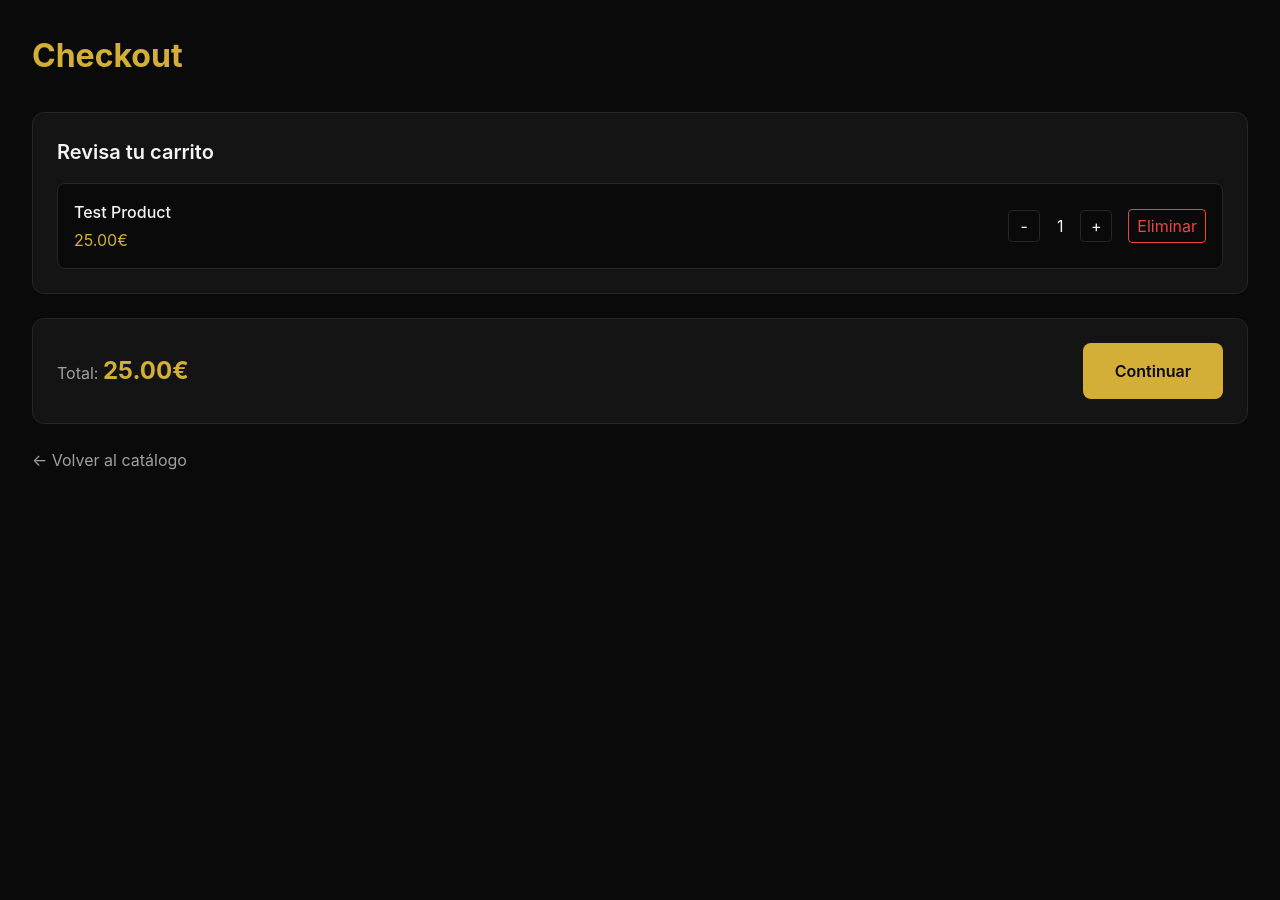
Checkout Page › Contact form anti-fraud (5.6 RED + 5.7 GREEN) › should reject fast submission (timing check)
The width and height of the screenshot is (1280, 900).
Expected: the heading "Revisa tu carrito" is shown, [57,140,214,164]
Click continue to go to contact form
Click the button "Continuar": coordinates (1153, 371) [1083,343,1223,399]
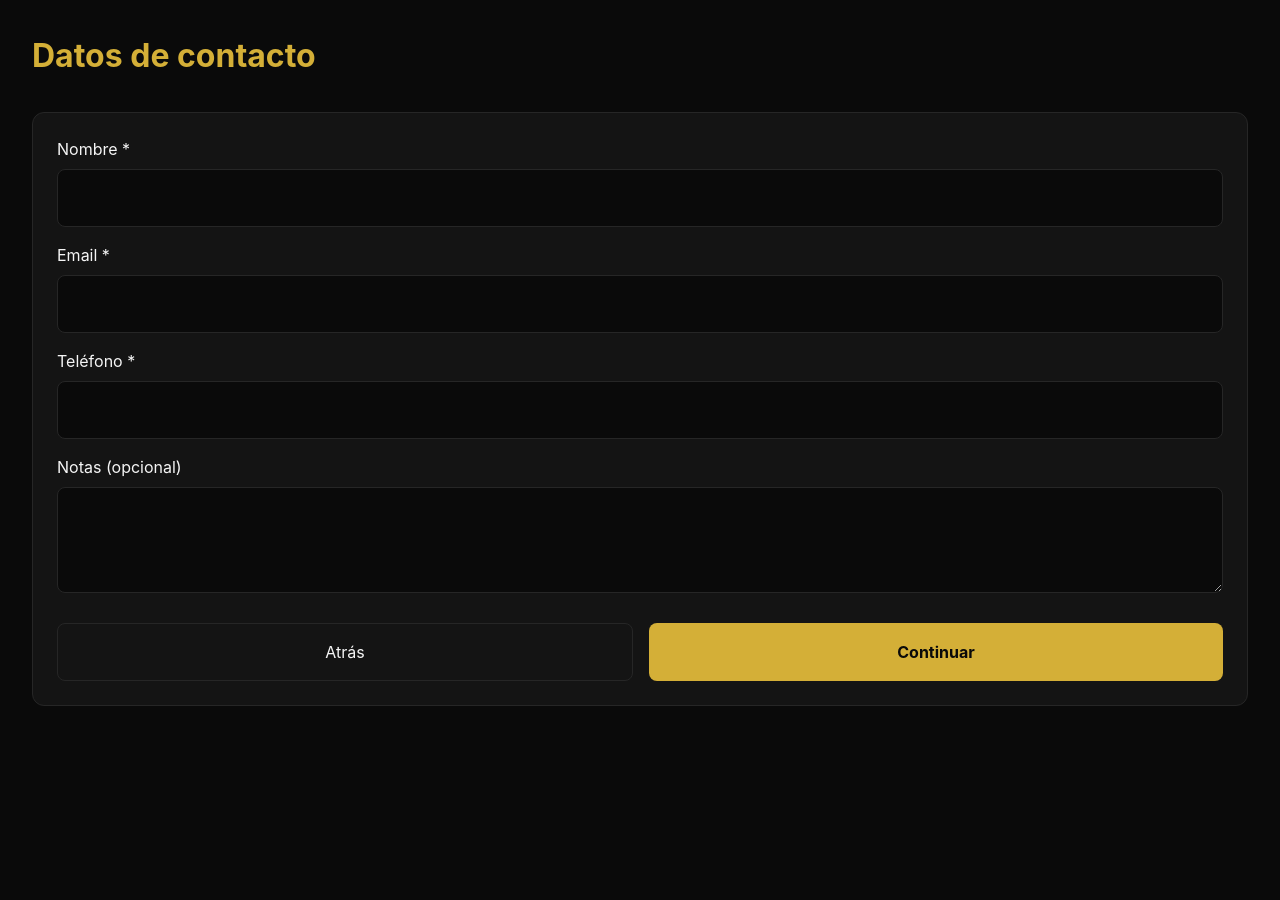
Result: the heading "Datos de contacto" is shown at [32,36,316,75]
In the field labelled "Nombre *": coordinates (640, 198) [57,169,1223,227], type "Juan Pérez"
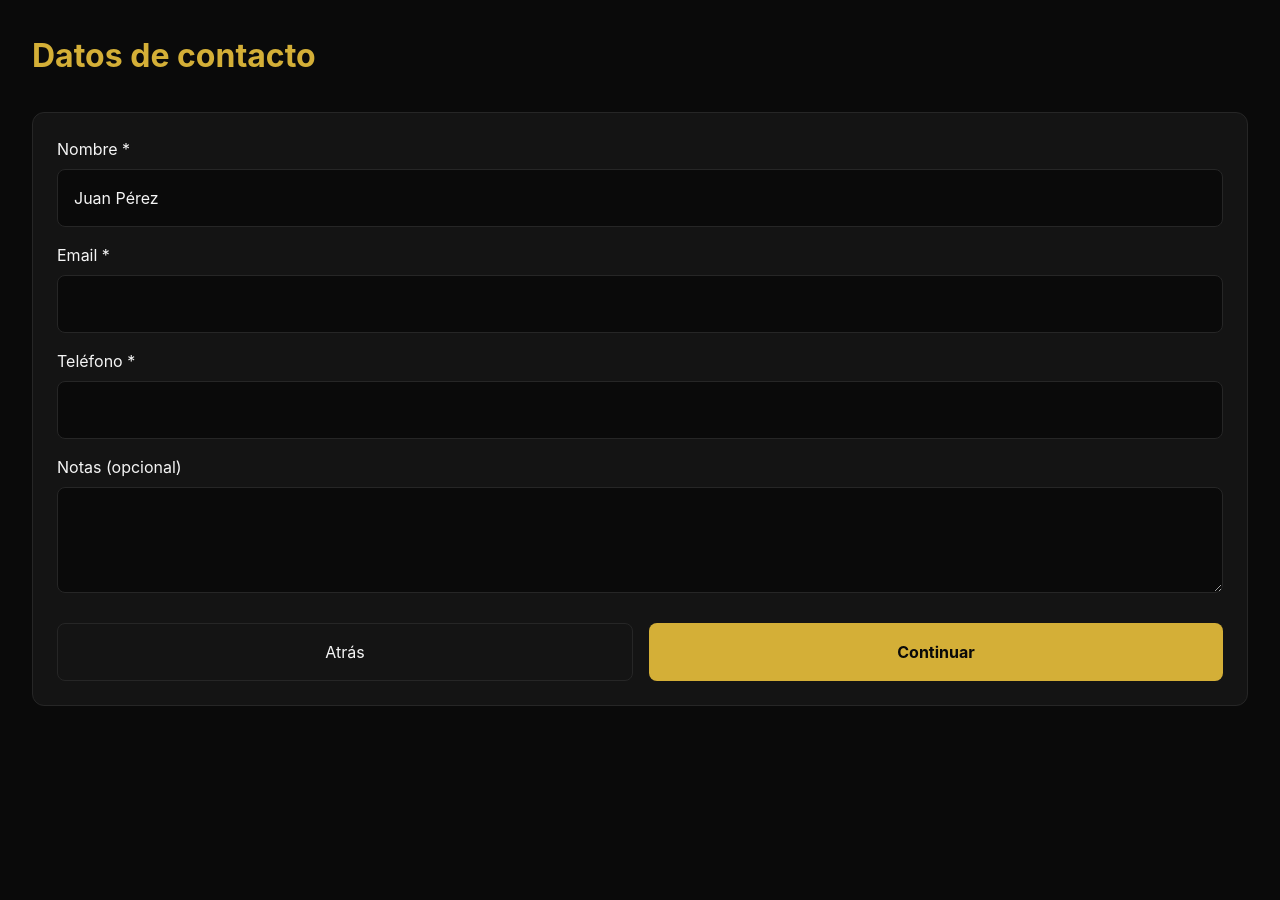
In the field labelled "Email *": coordinates (640, 304) [57,275,1223,333], type "juan@test.com"
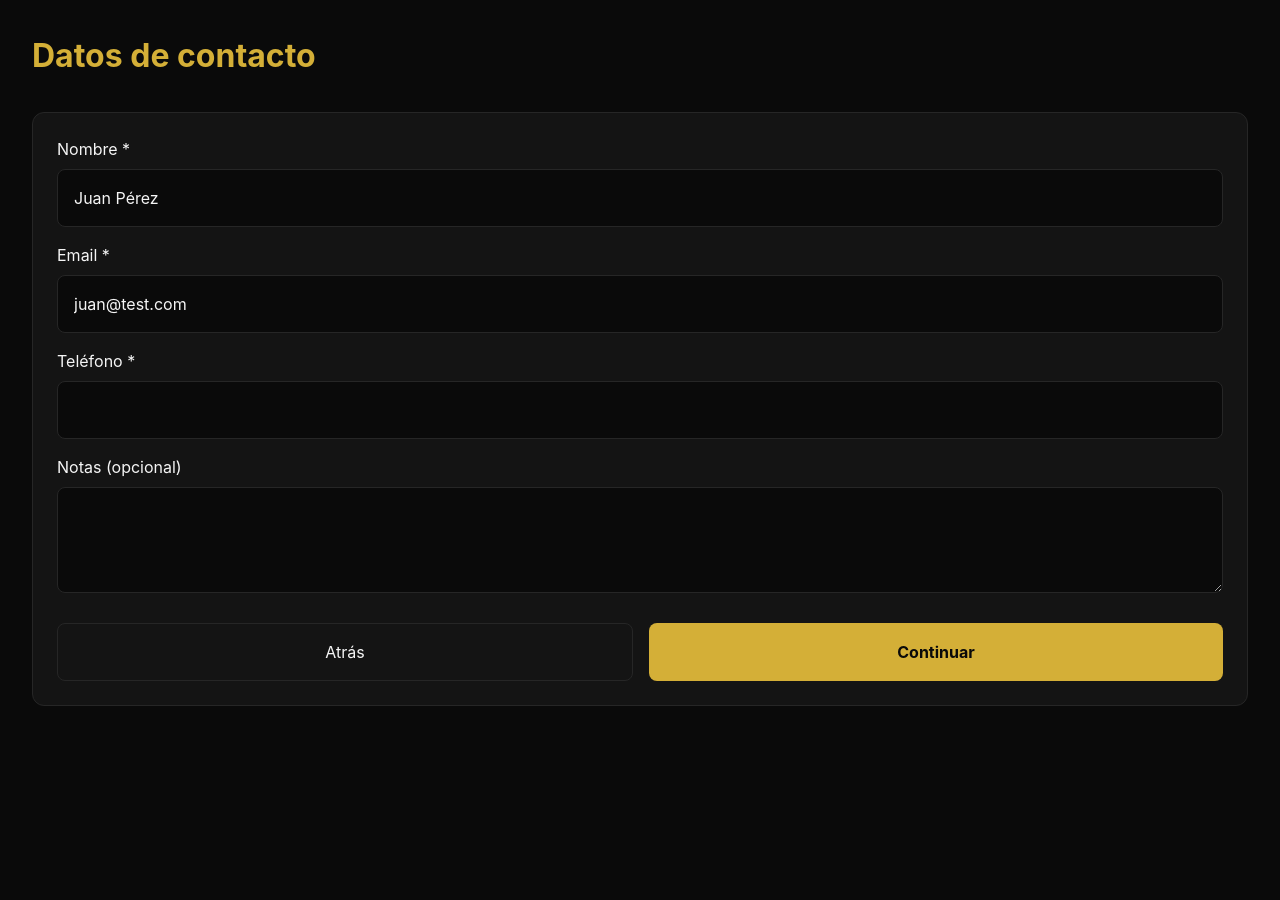
In the field labelled "Teléfono *": coordinates (640, 410) [57,381,1223,439], type "123456789"
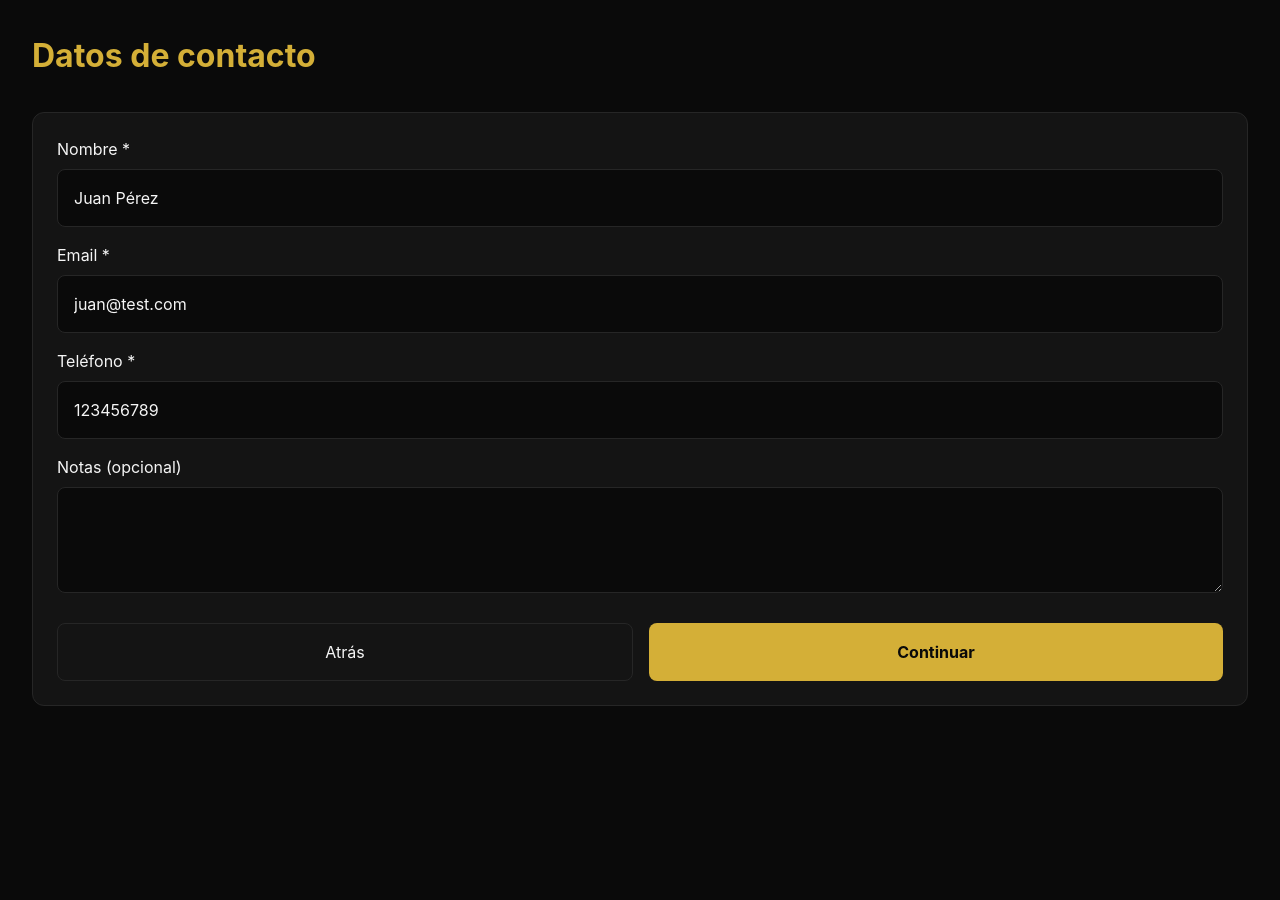
Submit immediately (less than 3 seconds)
Click the button "Continuar": coordinates (936, 652) [649,623,1223,681]
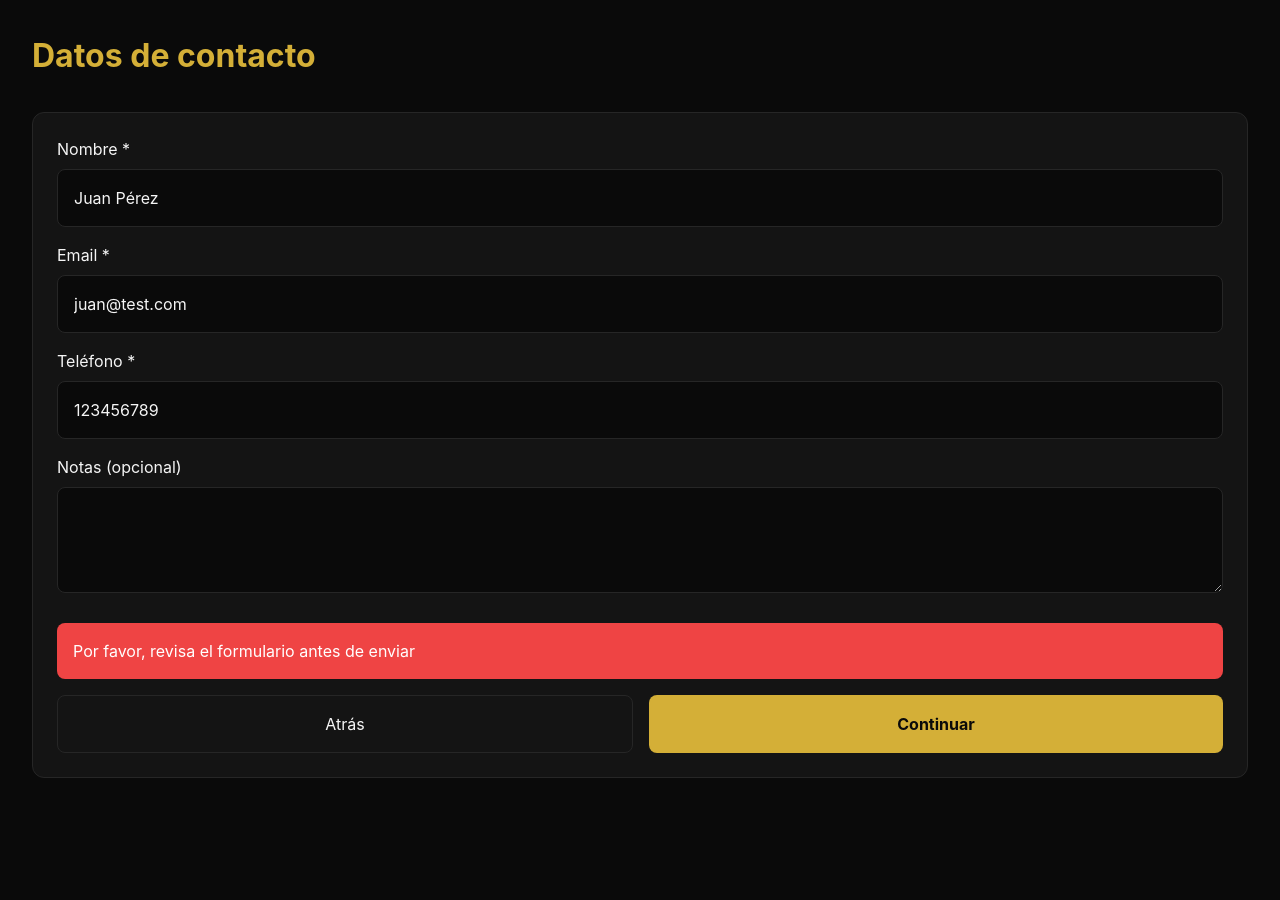
Result: the text "Por favor, revisa el formulario antes de enviar" is shown at [57,623,1223,679]
